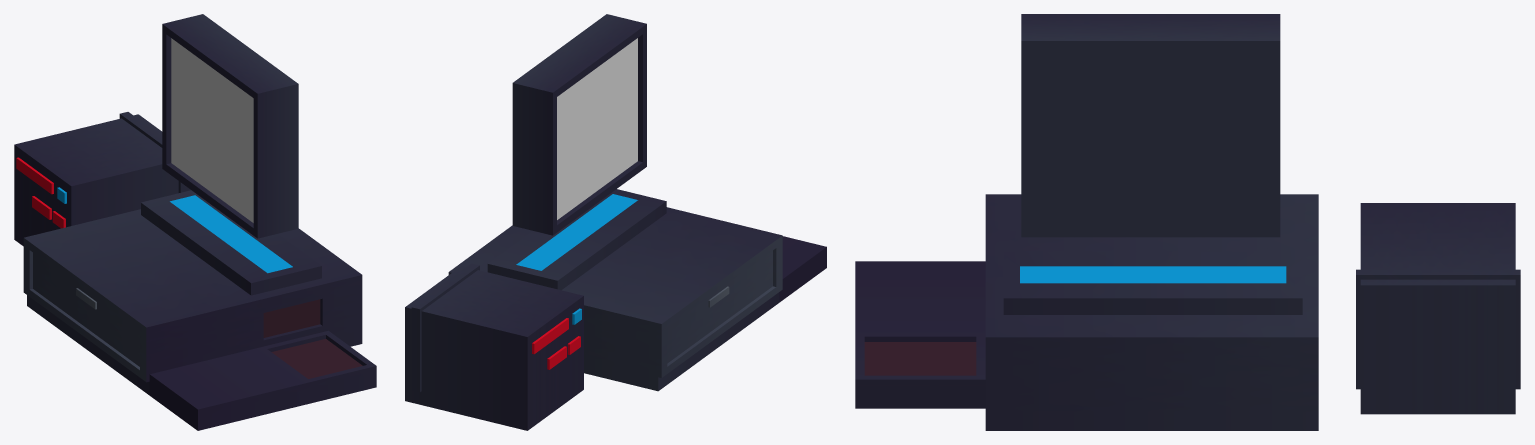
Rendered from Prop_CashRegister.fbx.
The picture shows the model from 3 angles, left to right: view 1: azimuth 30°, elevation 25°; view 2: azimuth 150°, elevation 25°; view 3: azimuth 270°, elevation 25°; orthographic projection. The views are drawn at different scales.
Visible parts, largest first — view 1: Cube.028; view 2: Cube.028; view 3: Cube.028.
Boxes of the visible parts, bbox=[...] form: Cube.028: bbox=[14, 14, 376, 430]; Cube.028: bbox=[405, 14, 826, 430]; Cube.028: bbox=[855, 14, 1520, 430].
Size of the model in its own units: 34.21 by 40.02 by 67.31.
